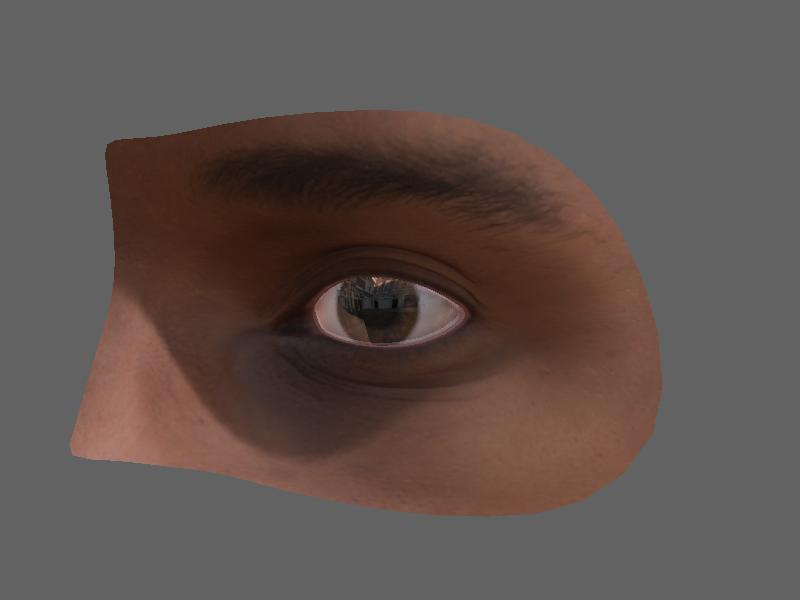iris: (335, 276, 424, 346)
